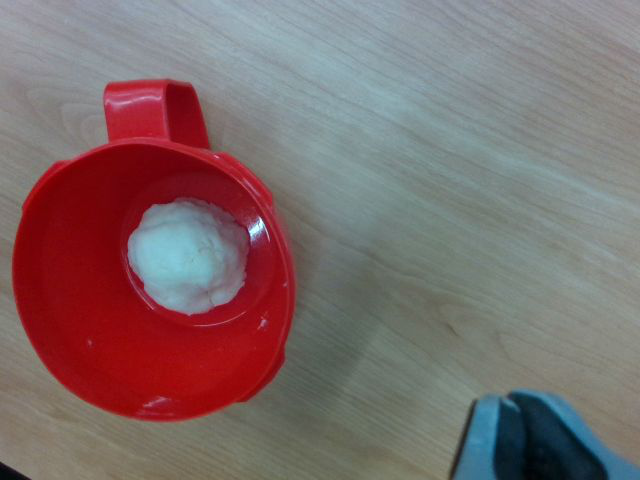mashed_potato: (126, 198, 245, 315)
